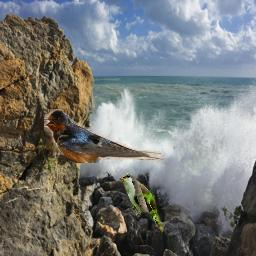Cuckoo: (117, 173, 167, 233)
Swallow: (44, 109, 164, 163)
